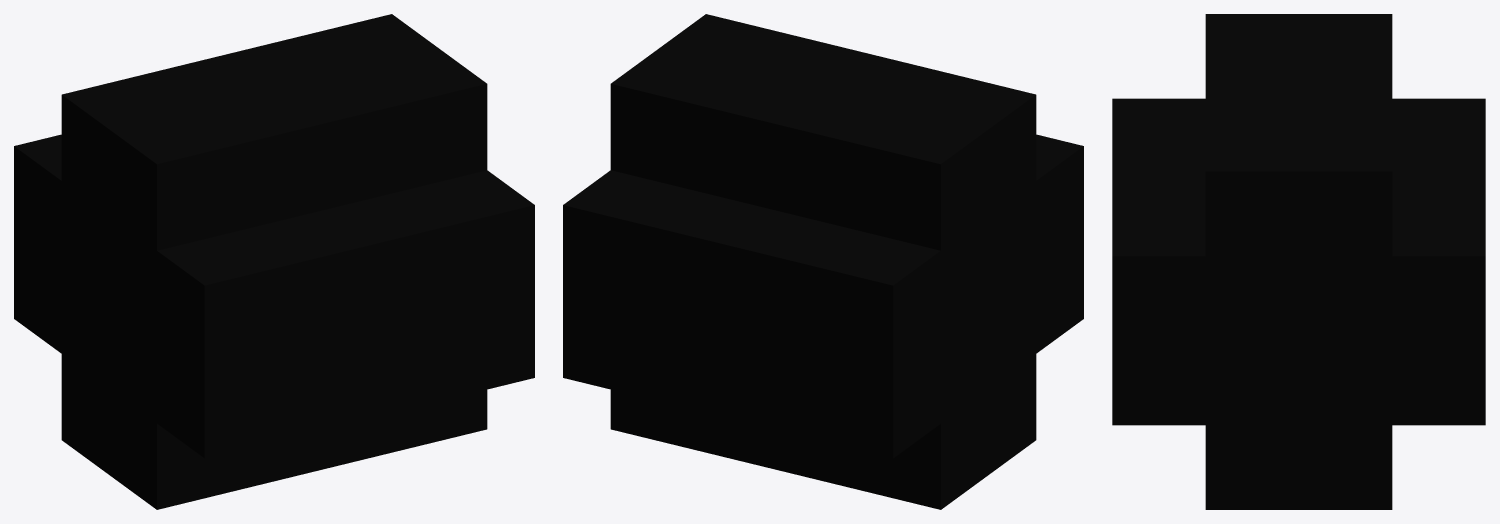
The model's file is cable_basic.glb.
3 views of the same model, side by side, from view 1: azimuth 30°, elevation 25°; view 2: azimuth 150°, elevation 25°; view 3: azimuth 270°, elevation 25° (orthographic). The views are drawn at different scales.
Parts seen in each view (by area): view 1: generated(Clone); view 2: generated(Clone); view 3: generated(Clone).
Boxes of the visible parts, x1,y1,x2,y2 form: generated(Clone): [14, 14, 534, 509]; generated(Clone): [563, 14, 1083, 509]; generated(Clone): [1112, 14, 1485, 509].
Size of the model in its own units: 4 by 4 by 4.
Materials: 1 (1 with a texture image).
